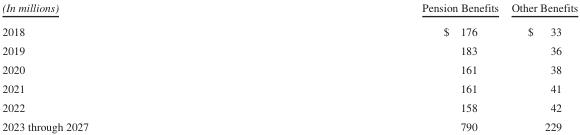table: (1, 0, 577, 132)
table column: (1, 0, 254, 132), (254, 0, 504, 132), (504, 0, 577, 132)
table column header: (1, 0, 577, 19)
table row: (1, 19, 577, 40), (1, 0, 577, 19), (1, 40, 577, 59), (1, 59, 577, 78), (1, 78, 577, 97), (1, 97, 577, 116), (1, 116, 577, 132)
